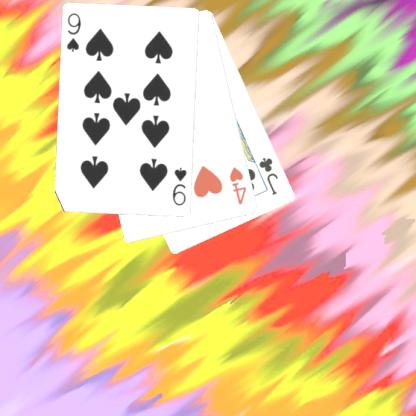4H: (227, 165, 248, 206)
9S: (64, 10, 82, 54), (170, 165, 188, 208)
JC: (256, 154, 280, 196)
